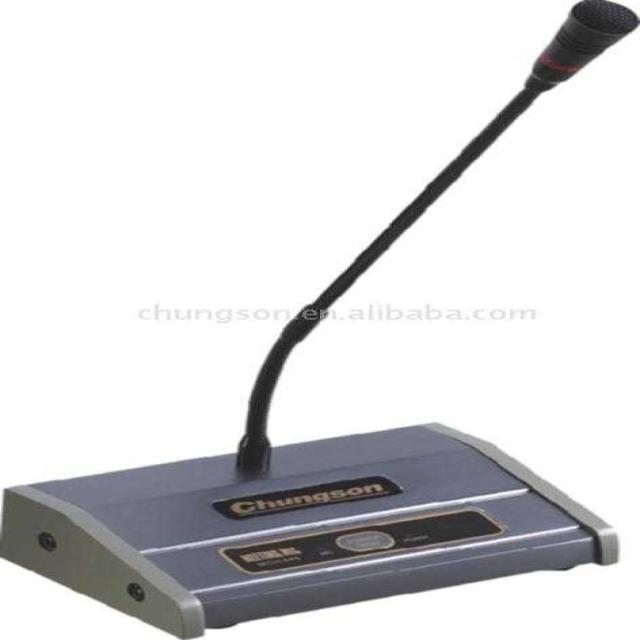microphone: (530, 0, 638, 93)
